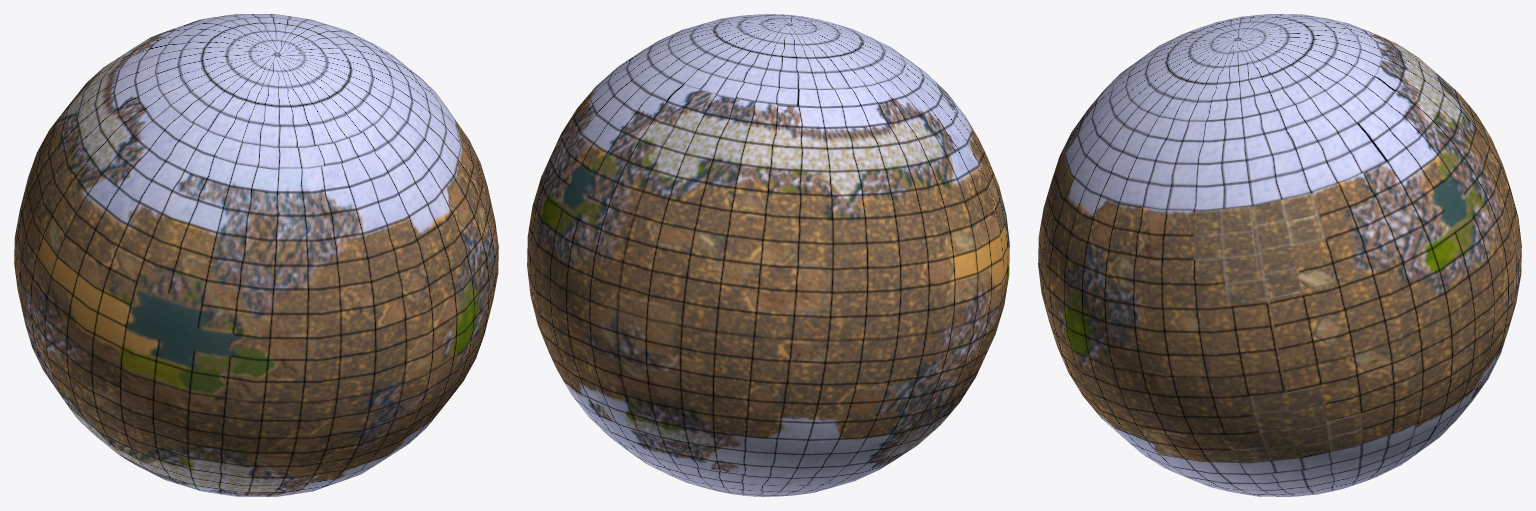
Rendered from KAVIAN BUENO.glb.
3 renders of one model, left to right at view 1: azimuth 30°, elevation 25°; view 2: azimuth 150°, elevation 25°; view 3: azimuth 270°, elevation 25°, orthographic.
Visible parts, largest first — view 1: Sphere; view 2: Sphere; view 3: Sphere.
Boxes of the visible parts, <box> form: Sphere: <box>14,14,498,496</box>; Sphere: <box>527,14,1009,496</box>; Sphere: <box>1038,14,1521,496</box>.
Bounding box in the file's own units: 0.7488 × 0.7481 × 0.7481.
Materials: 1 (1 with a texture image).
